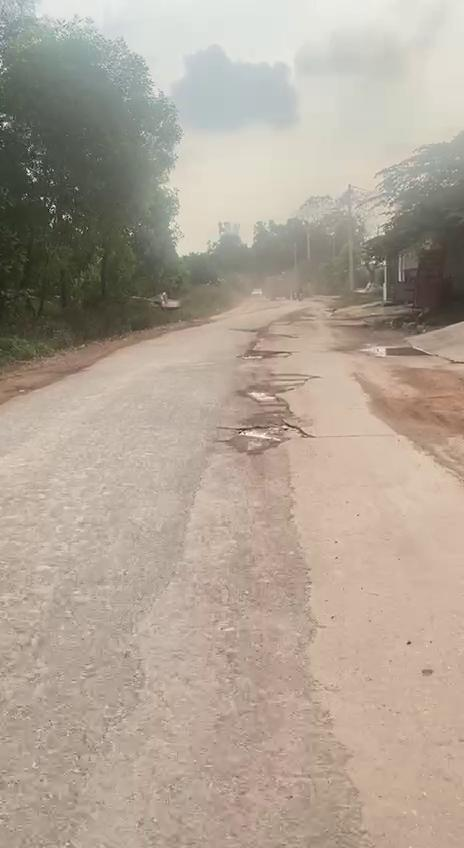pothole: (234, 421, 290, 452), (241, 386, 284, 406)
